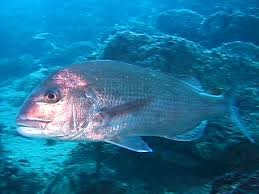tai: (14, 56, 242, 150)
